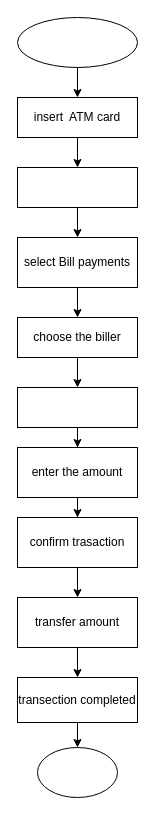
Some shapes in this 155 by 815 pixel diagram are drawn without their labels. The box of each missing label's shape, as (x1, y1, x2, y2) in pixels:
enter the account number: (16, 386, 138, 428)
enter the pin: (16, 166, 138, 208)
start: (16, 16, 138, 68)
stop: (36, 746, 118, 798)
